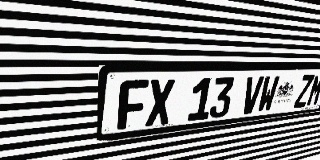1: (187, 78, 215, 121)
3: (209, 77, 235, 119)
F: (117, 80, 149, 130)
M: (306, 74, 320, 107)
V: (240, 76, 264, 115)
W: (256, 76, 280, 113)
X: (145, 79, 175, 127)
Z: (293, 75, 315, 108)
